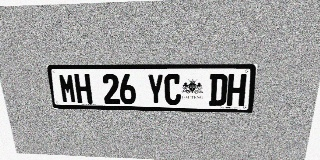2: (102, 74, 120, 104)
6: (119, 74, 136, 104)
C: (164, 74, 181, 105)
D: (209, 74, 228, 106)
H: (226, 74, 247, 106), (74, 74, 93, 104)
M: (58, 74, 77, 103)
Y: (147, 74, 164, 105)
